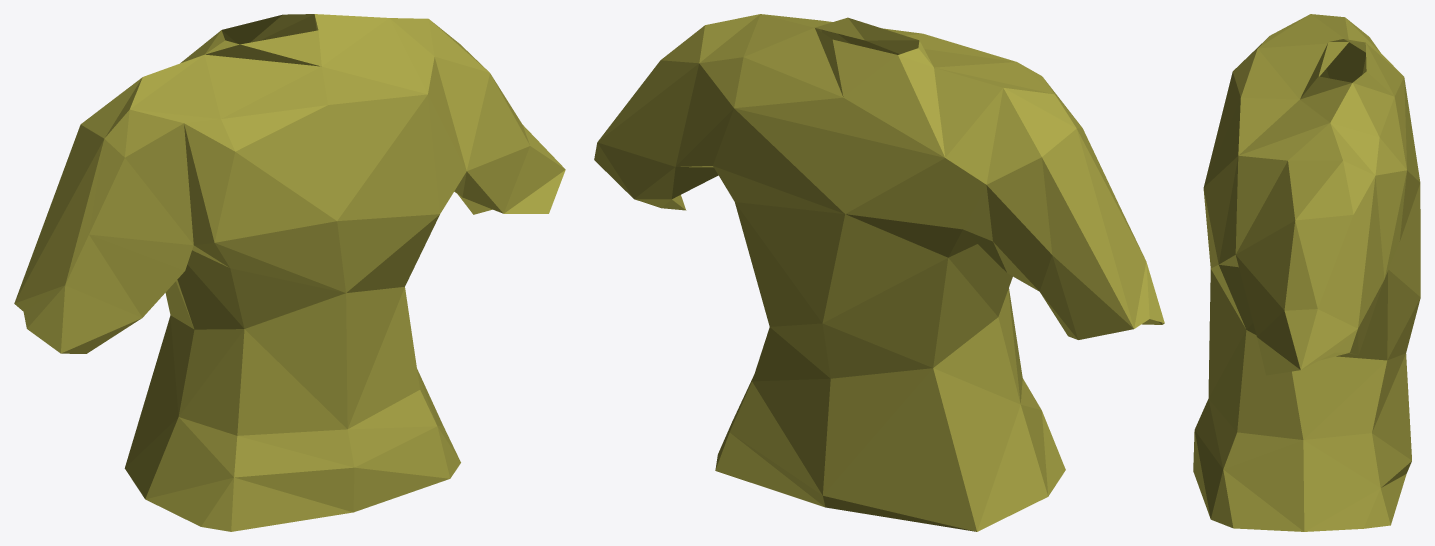
Rendered from FarmerShirt.fbx.
3 views of the same model, side by side, from view 1: azimuth 30°, elevation 25°; view 2: azimuth 150°, elevation 25°; view 3: azimuth 270°, elevation 25° (orthographic). The views are drawn at different scales.
Parts seen in each view (by area): view 1: Shirt1; view 2: Shirt1; view 3: Shirt1.
Boxes of the visible parts, box(x1,y1,x2,y2) form: Shirt1: box(14, 14, 565, 531); Shirt1: box(594, 14, 1164, 531); Shirt1: box(1193, 14, 1420, 531).
Size of the model in its own units: 1.91 by 1.46 by 0.7351.
